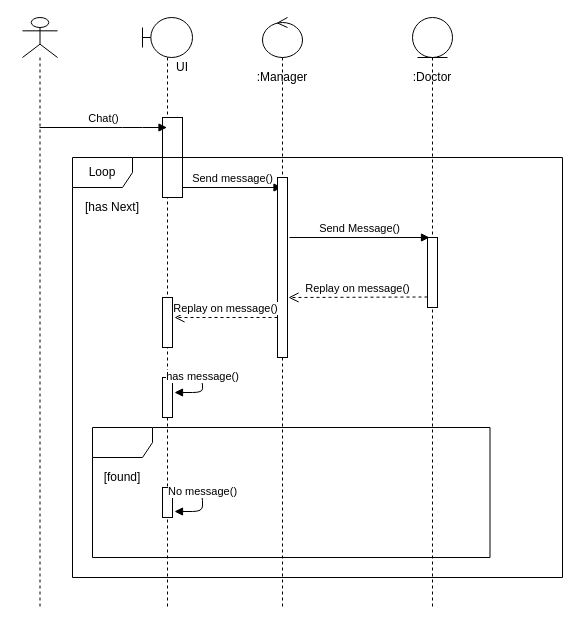
The diagram is 580 pixels wide and 625 high, and some of its shapes have lost their labels. The box of each missing label's shape, as (x1, y1, x2, y2) in pixels:
:Patient: (22, 16, 58, 608)
break: (92, 426, 490, 558)
